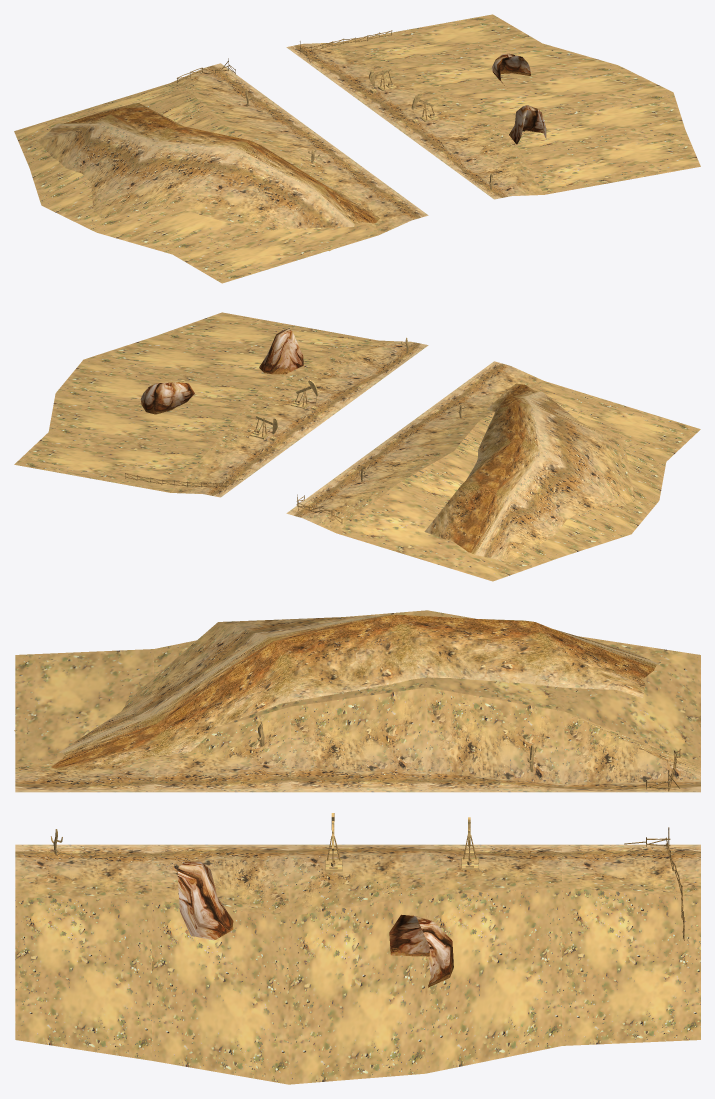
File: us_des_mid_04.fbx
3 views of the same model, one above another, from view 1: azimuth 30°, elevation 25°; view 2: azimuth 150°, elevation 25°; view 3: azimuth 270°, elevation 25° (orthographic). The views are drawn at different scales.
Parts seen in each view (by area): view 1: des_mid_04, des_props_04; view 2: des_mid_04, des_props_04; view 3: des_mid_04, des_props_04.
Part boxes in pixels (x1,y1,x2,y2): des_mid_04: (14, 14, 700, 283); des_props_04: (176, 30, 493, 189); des_mid_04: (14, 312, 700, 581); des_props_04: (125, 337, 464, 523); des_mid_04: (14, 610, 700, 1084); des_props_04: (51, 721, 684, 940).
Bounding box in the file's own units: 16370 × 1720 × 10019.
